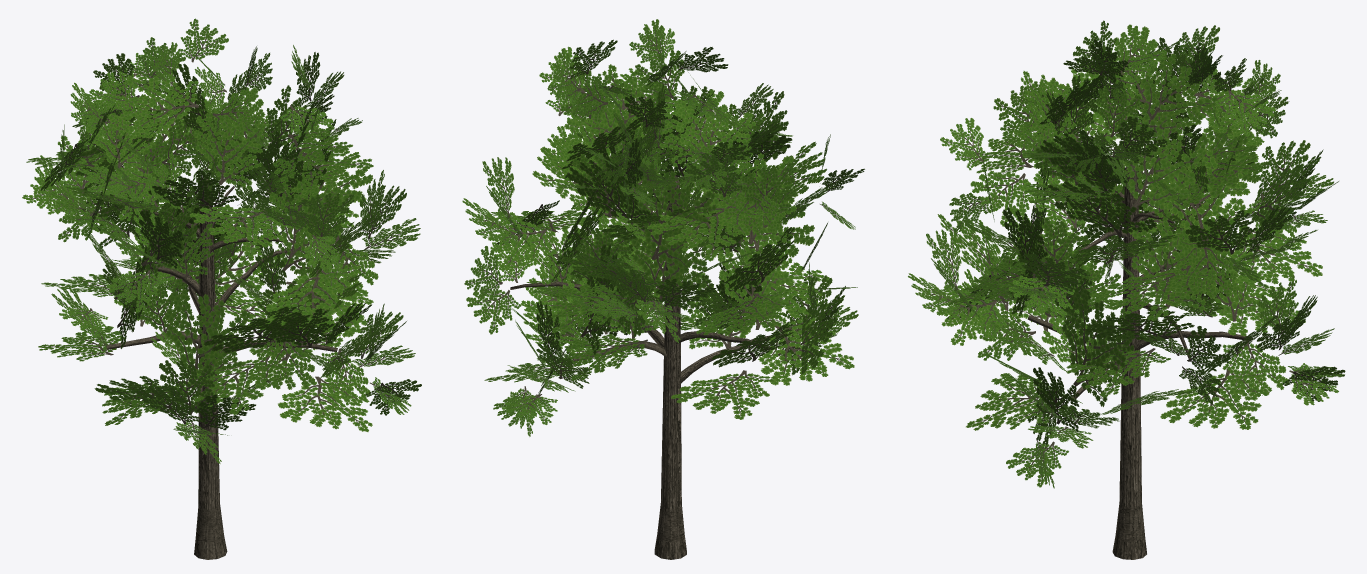
Rendered from Tree_Acerbic_B_Lod2.fbx.
The picture shows the model from 3 angles, left to right: view 1: azimuth 30°, elevation 25°; view 2: azimuth 150°, elevation 25°; view 3: azimuth 270°, elevation 25°; orthographic projection. The views are drawn at different scales.
Visible parts, largest first — view 1: Tree_Acerbic_B_Lod2; view 2: Tree_Acerbic_B_Lod2; view 3: Tree_Acerbic_B_Lod2.
Part boxes in pixels (x1,y1,x2,y2): Tree_Acerbic_B_Lod2: (22,18,421,559); Tree_Acerbic_B_Lod2: (462,19,864,559); Tree_Acerbic_B_Lod2: (908,20,1345,559).
Size of the model in its own units: 241 by 337 by 258.
Materials: 1 (1 with a texture image).
